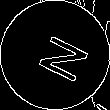N_NW: (24, 26, 86, 84)
